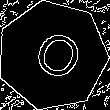O_SW: (21, 23, 84, 88)
